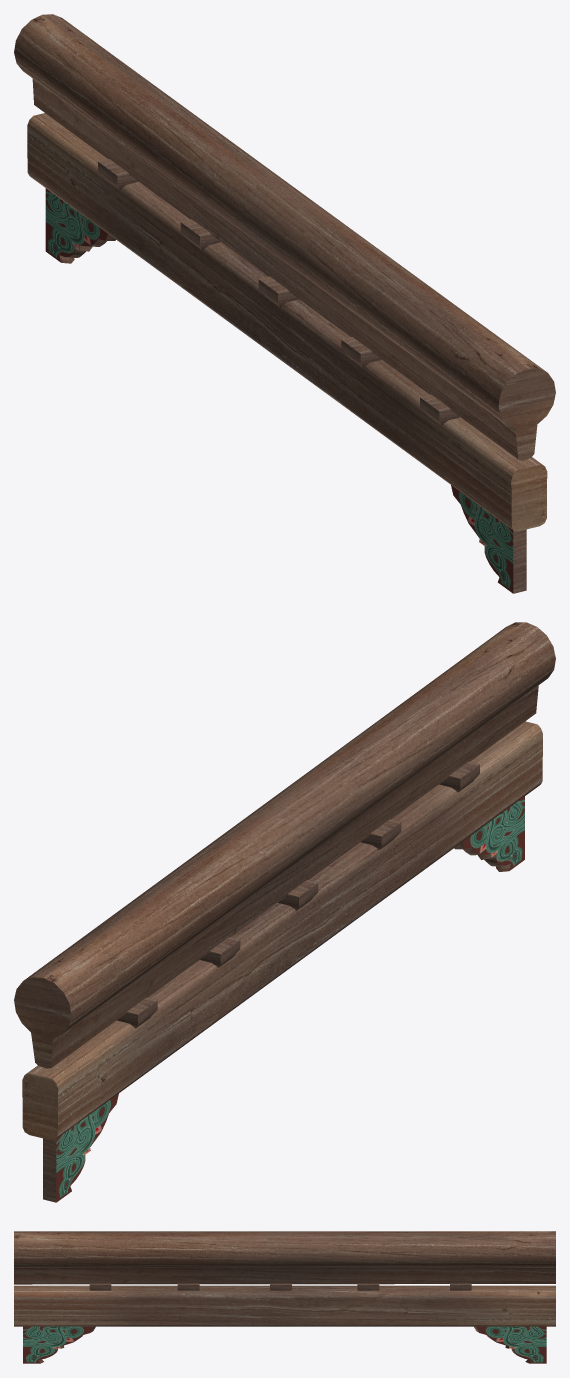
The model's file is SM_R_Dancheong_22.fbx.
The picture shows the model from 3 angles, top to bottom: view 1: azimuth 30°, elevation 25°; view 2: azimuth 150°, elevation 25°; view 3: azimuth 270°, elevation 25°; orthographic projection. The views are drawn at different scales.
Visible parts, largest first — view 1: SM_R_Dancheong_22; view 2: SM_R_Dancheong_22; view 3: SM_R_Dancheong_22.
Boxes of the visible parts, <box> form: SM_R_Dancheong_22: <box>14,14,555,593</box>; SM_R_Dancheong_22: <box>14,622,555,1202</box>; SM_R_Dancheong_22: <box>14,1231,555,1363</box>.
Bounding box in the file's own units: 33.25 × 482 × 126.
Materials: 2 (2 with a texture image).
